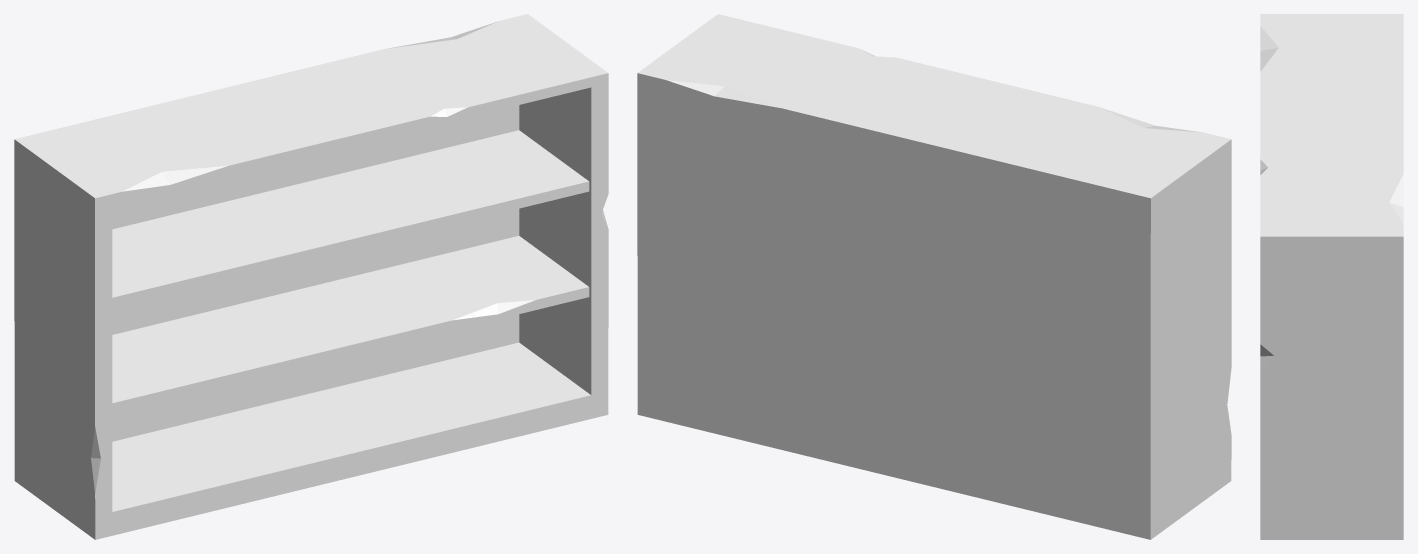
The model's file is SM_Prop_Shelf_06.obj.
The picture shows the model from 3 angles, left to right: view 1: azimuth 30°, elevation 25°; view 2: azimuth 150°, elevation 25°; view 3: azimuth 270°, elevation 25°; orthographic projection. The views are drawn at different scales.
Visible parts, largest first — view 1: SM_Prop_Shelf_06_Mat_SwatchOverlay_PolygonTown_01_WoodRotated_In; view 2: SM_Prop_Shelf_06_Mat_SwatchOverlay_PolygonTown_01_WoodRotated_In; view 3: SM_Prop_Shelf_06_Mat_SwatchOverlay_PolygonTown_01_WoodRotated_In.
Boxes of the visible parts, x1,y1,x2,y2 form: SM_Prop_Shelf_06_Mat_SwatchOverlay_PolygonTown_01_WoodRotated_In: (14,14,608,539); SM_Prop_Shelf_06_Mat_SwatchOverlay_PolygonTown_01_WoodRotated_In: (637,14,1231,539); SM_Prop_Shelf_06_Mat_SwatchOverlay_PolygonTown_01_WoodRotated_In: (1260,14,1403,539).
Size of the model in its own units: 1.4 by 0.8929 by 0.3824.
1 material, 1 textured.
